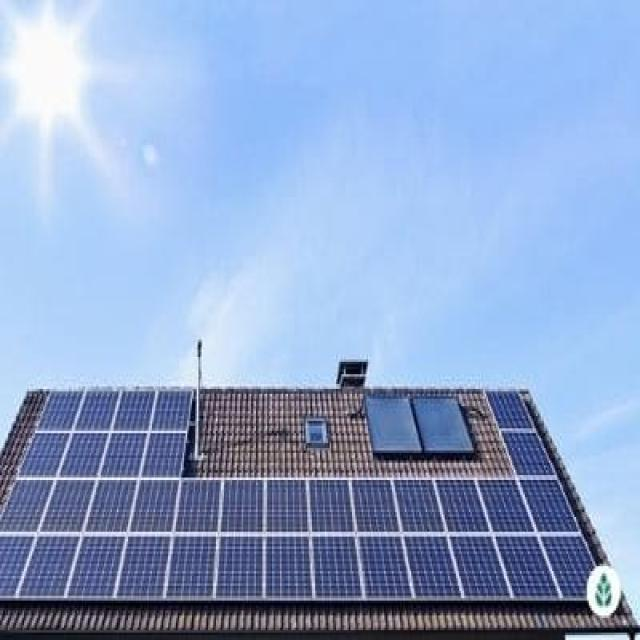Non Defective: (0, 392, 595, 601), (0, 537, 591, 599)
